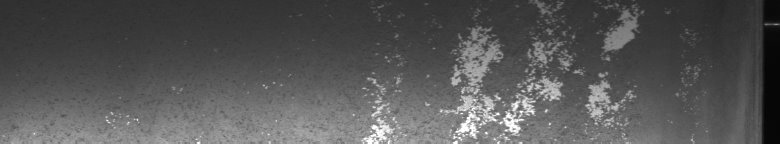kb: (362, 4, 701, 136)
